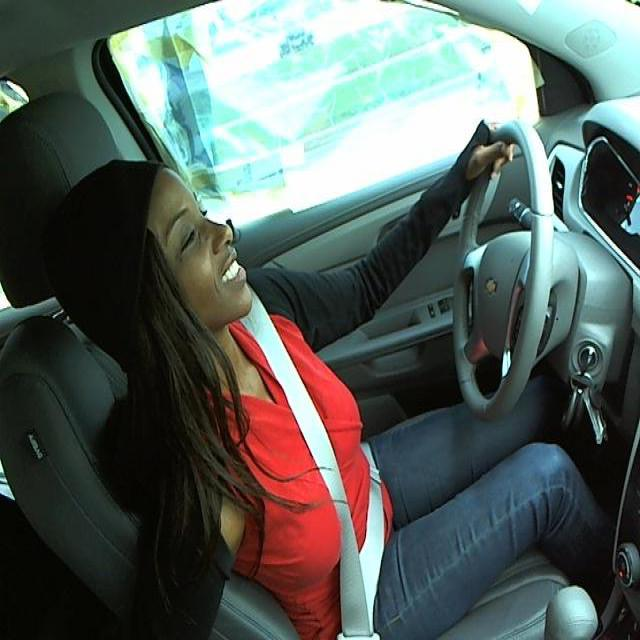seatbelt: (242, 322, 400, 614)
